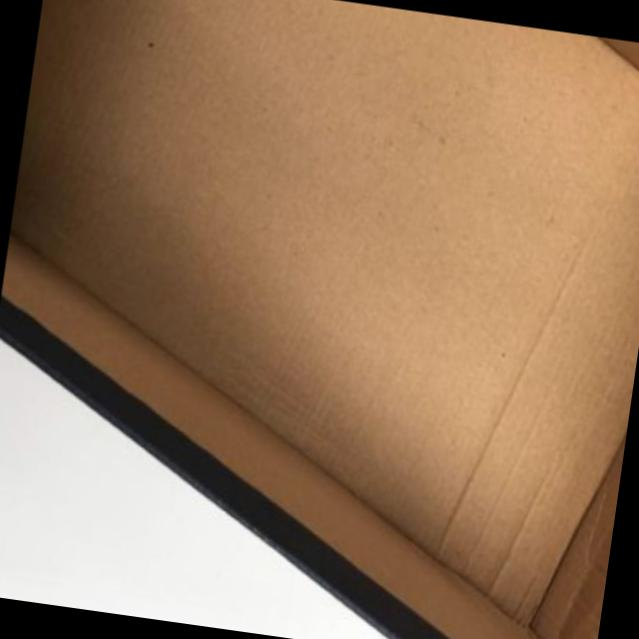cardboard paper: (1, 0, 639, 639)
